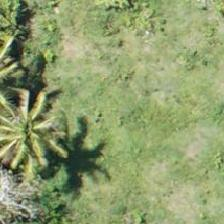coconut_tree: (0, 92, 68, 182)
